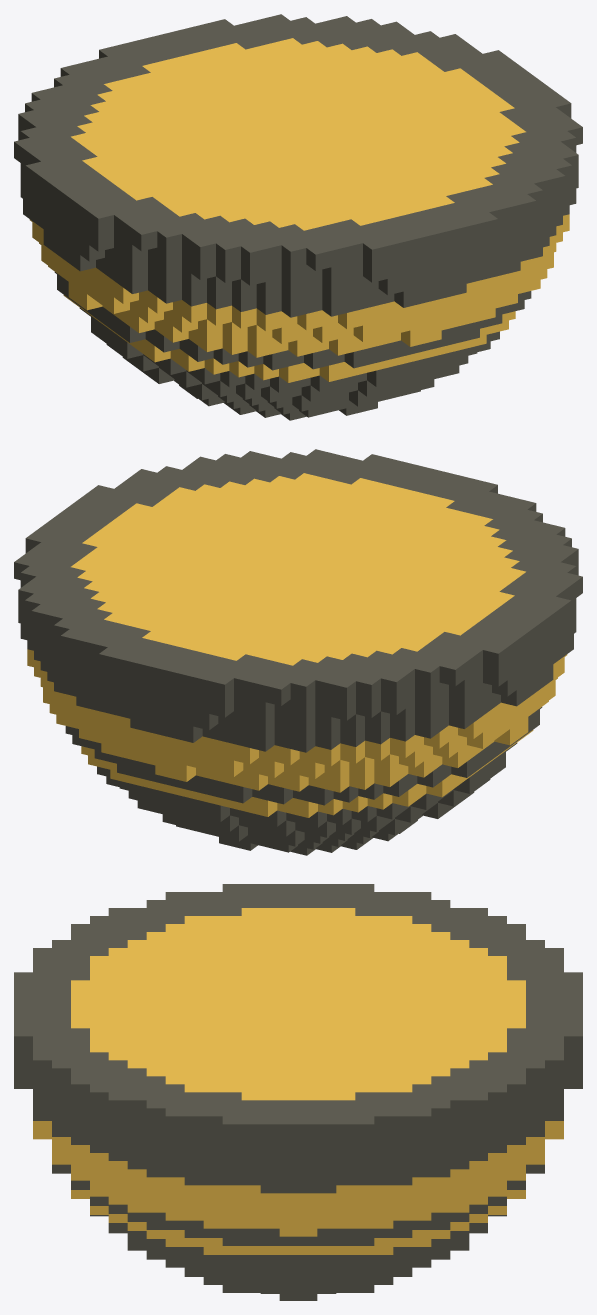
The model's file is factory4.2-13.obj.
The picture shows the model from 3 angles, top to bottom: view 1: azimuth 30°, elevation 25°; view 2: azimuth 150°, elevation 25°; view 3: azimuth 270°, elevation 25°; orthographic projection. The views are drawn at different scales.
Size of the model in its own units: 3 by 1.5 by 3.
Materials: 1 (1 with a texture image).
